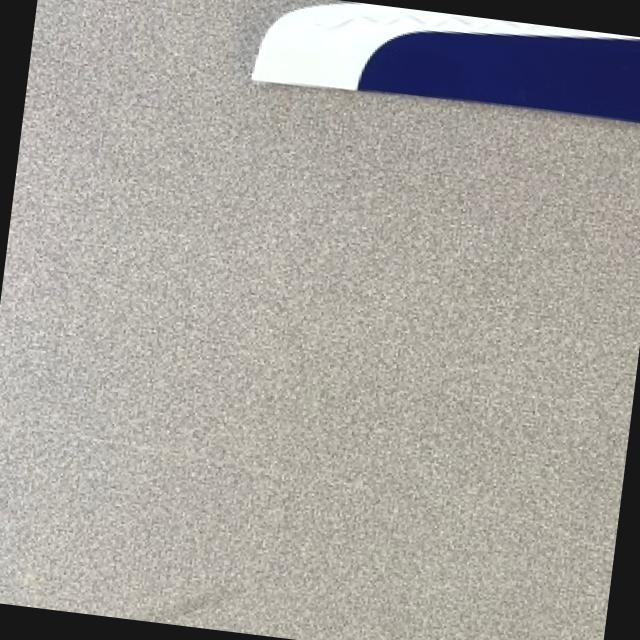healthy: (255, 1, 640, 119)
